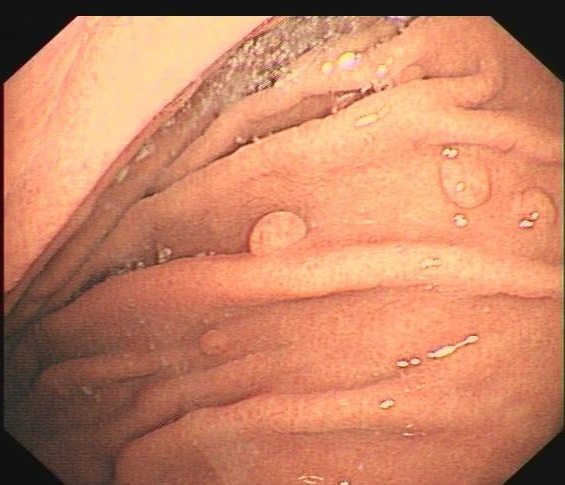Polyp: (381, 52, 559, 253), (231, 196, 322, 268)
